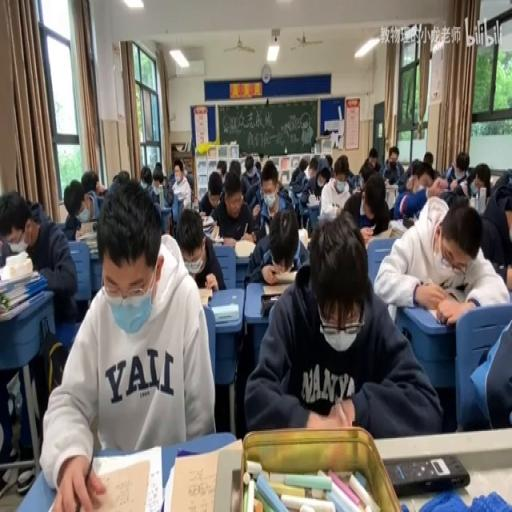calculator: (49, 444, 161, 509), (162, 448, 229, 512), (383, 452, 469, 496), (426, 306, 462, 327), (210, 301, 238, 323), (262, 279, 294, 294), (270, 267, 298, 283), (234, 238, 256, 258), (197, 286, 213, 306), (384, 182, 397, 206), (77, 224, 96, 240), (388, 219, 407, 235), (298, 228, 308, 248), (201, 213, 214, 226), (210, 224, 219, 240), (307, 196, 319, 206), (88, 246, 98, 256), (290, 188, 298, 200)
paper: (246, 210, 438, 436), (1, 184, 80, 486), (468, 303, 510, 427), (174, 203, 222, 289), (210, 168, 254, 247), (479, 171, 512, 276), (350, 172, 392, 243), (253, 156, 290, 234), (318, 153, 352, 222), (394, 159, 432, 218), (163, 158, 189, 229), (289, 154, 310, 223), (79, 170, 107, 218), (468, 162, 491, 202), (444, 151, 470, 186), (382, 145, 405, 184), (238, 155, 260, 195), (357, 162, 374, 188), (152, 160, 166, 190), (206, 170, 222, 196), (28, 200, 46, 222), (139, 164, 153, 189), (227, 158, 240, 179), (114, 168, 130, 182), (308, 155, 318, 176), (422, 151, 433, 166), (216, 161, 226, 176), (324, 154, 333, 170), (368, 150, 378, 164), (254, 158, 261, 173), (373, 160, 381, 170), (301, 162, 307, 171)
person: (260, 292, 282, 316), (230, 468, 242, 510), (251, 228, 258, 243)
